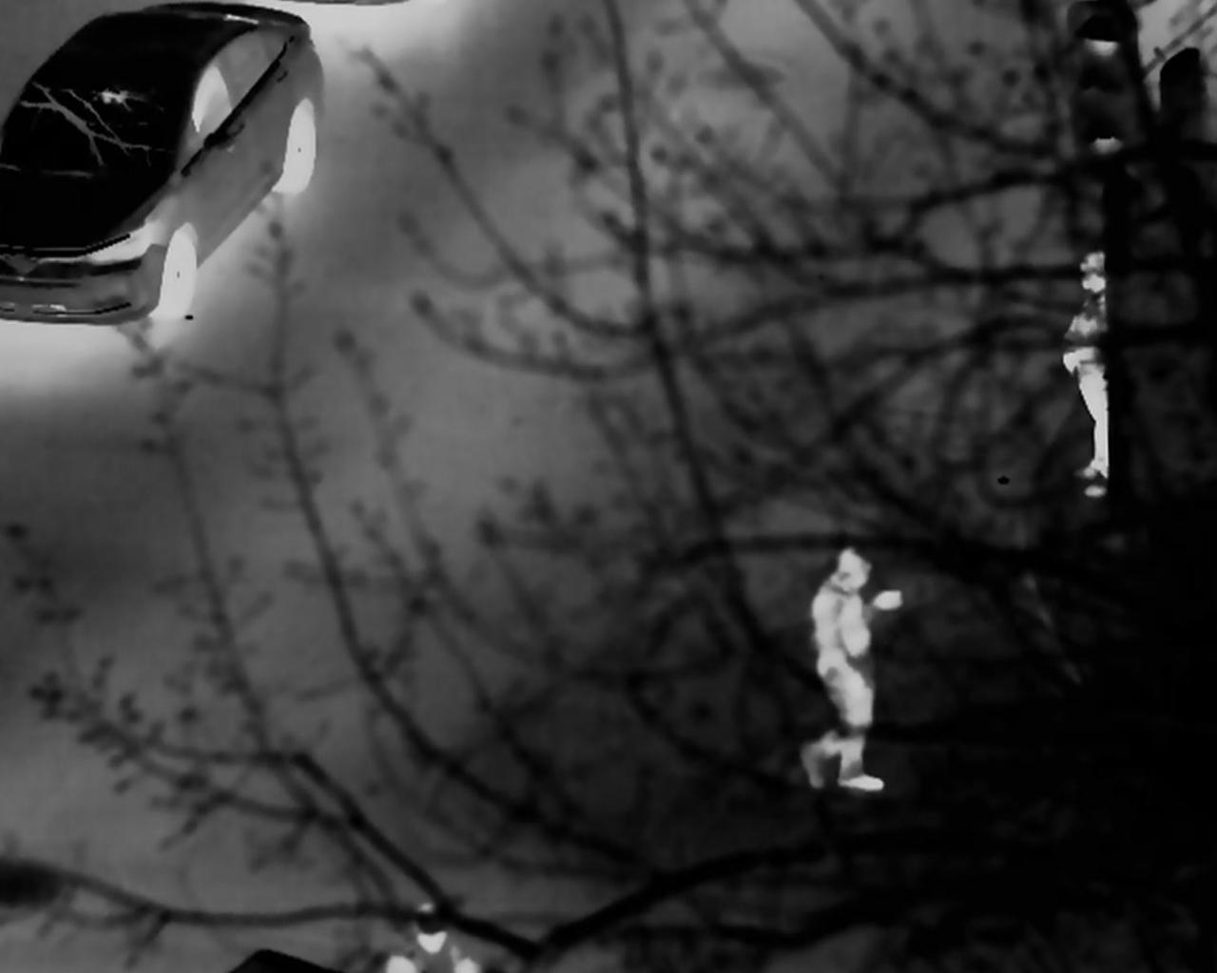person: (806, 551, 903, 769), (1059, 240, 1119, 499), (404, 900, 493, 973)
